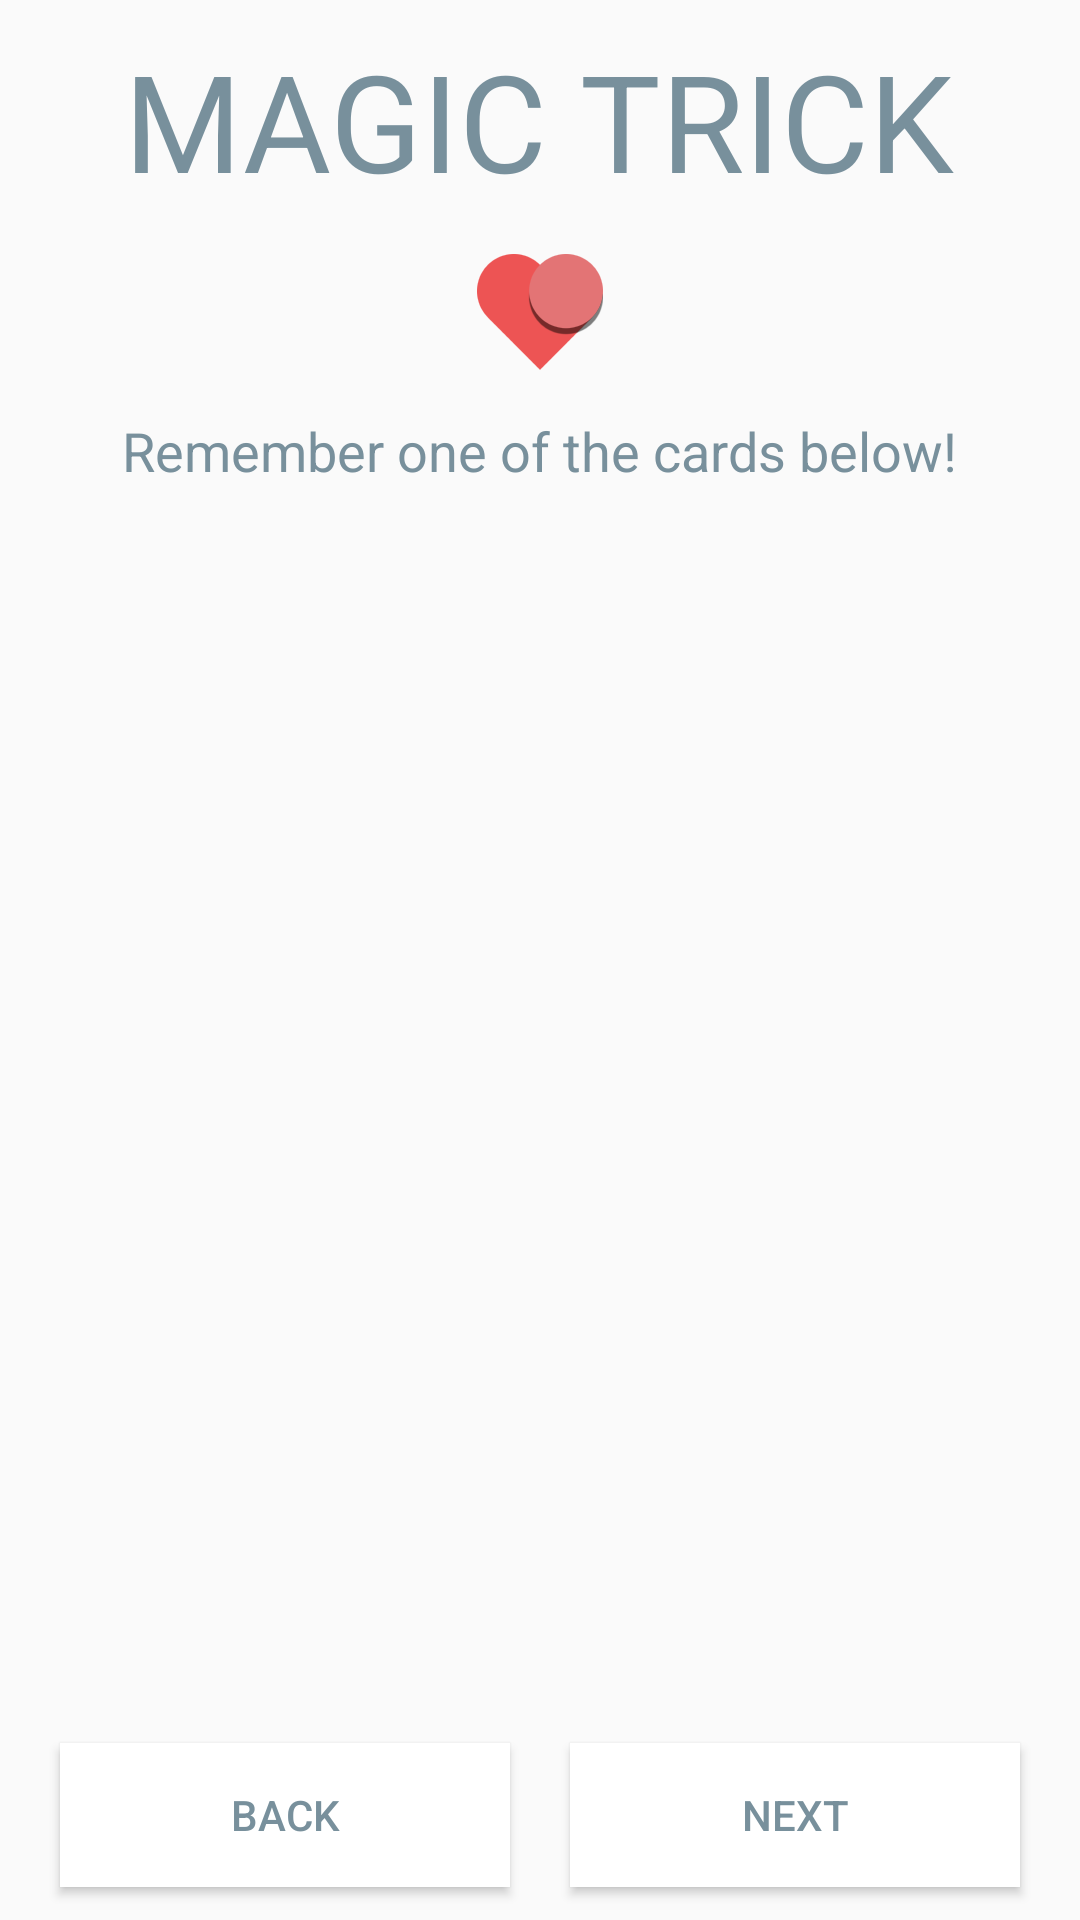

Icons on this 1080x1920 Android screen, each with its box as (x1, y1, x2, y2):
heart: (477, 254, 603, 370)
